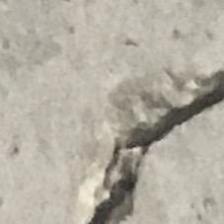Crack: (52, 65, 223, 224)
